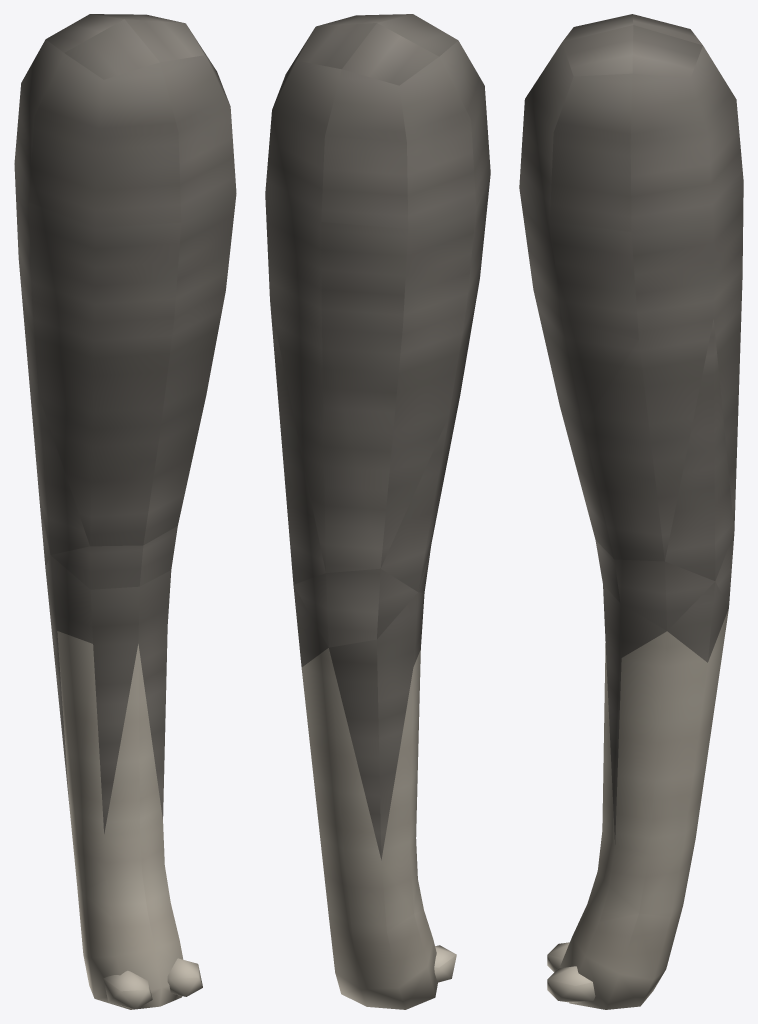
The model's file is SM_Wolf_LegF.fbx.
3 views of the same model, side by side, from view 1: azimuth 30°, elevation 25°; view 2: azimuth 150°, elevation 25°; view 3: azimuth 270°, elevation 25° (orthographic).
Parts seen in each view (by area): view 1: SM_Wolf_LegF; view 2: SM_Wolf_LegF; view 3: SM_Wolf_LegF.
Boxes of the visible parts, x1=… form: SM_Wolf_LegF: x1=14, y1=14, x2=236, y2=1009; SM_Wolf_LegF: x1=265, y1=14, x2=490, y2=1009; SM_Wolf_LegF: x1=519, y1=14, x2=743, y2=1009.
Bounding box in the file's own units: 0.6142 × 2.91 × 0.6134.
1 material, 1 textured.
